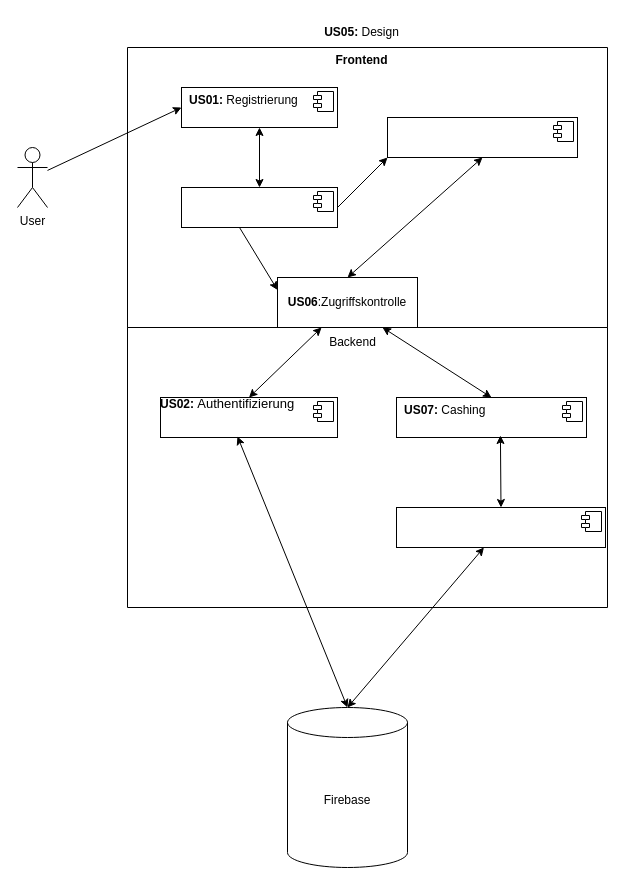
Image size: 625x885. Some labels were removed from this diagram. Here are the shapes that lost their labels. From the top down, the box of each, then its label:
(386, 116, 578, 158): US03: Adventskalender
(180, 186, 338, 228): US02: Login
(396, 506, 606, 548): US04: Geschenk / Nachrichten
